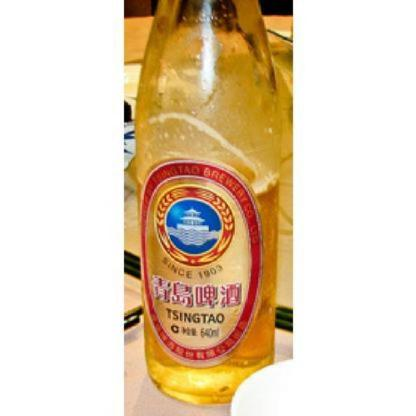Can: (134, 0, 283, 404)
